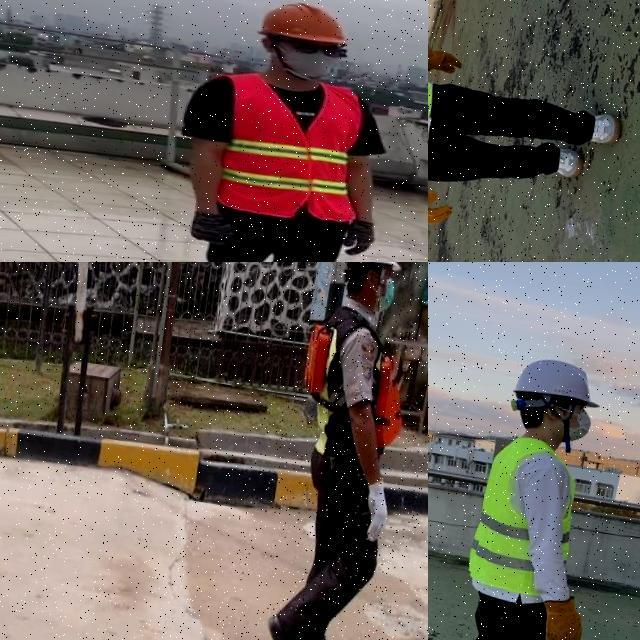boots: (256, 607, 317, 640), (550, 144, 588, 178), (588, 114, 622, 144)
helmet: (512, 354, 608, 410), (250, 0, 350, 50)
vest: (200, 67, 376, 228), (290, 310, 420, 472), (465, 432, 586, 601)
